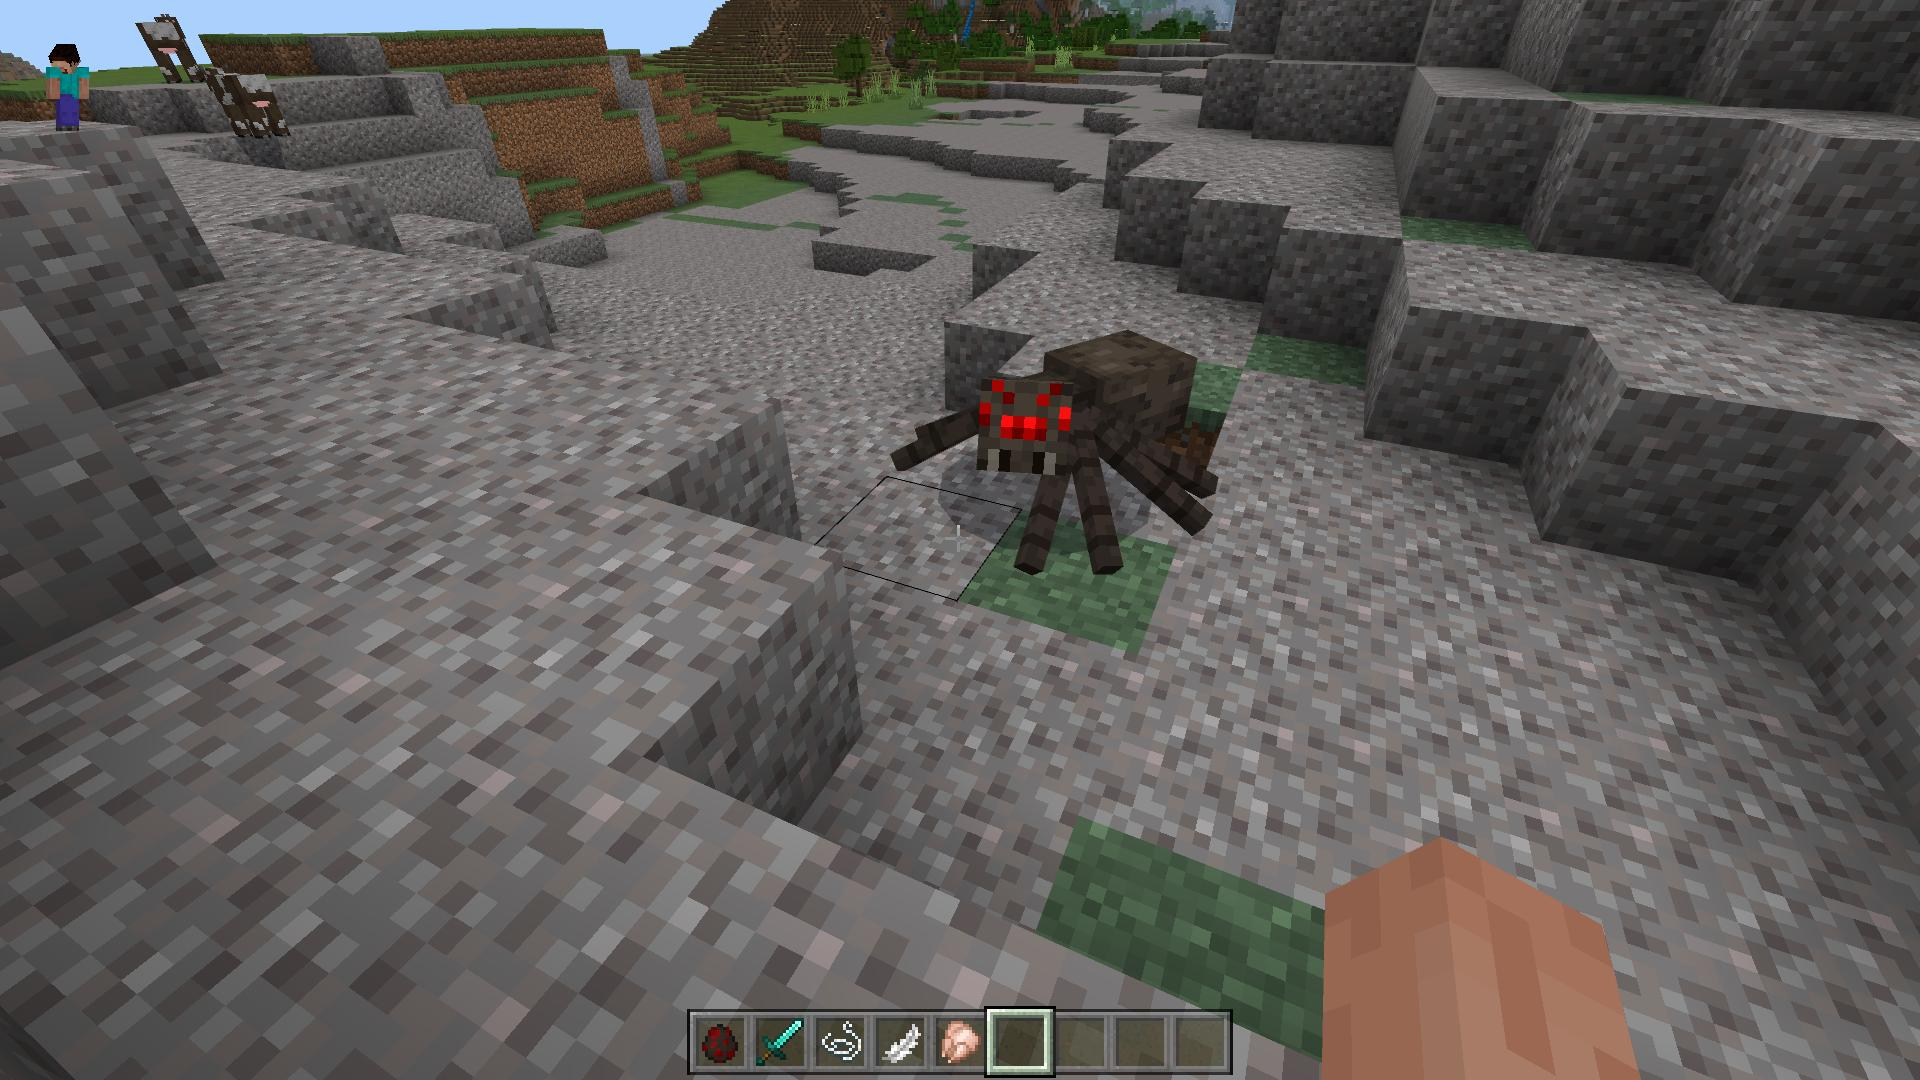spider: (891, 328, 1218, 579)
